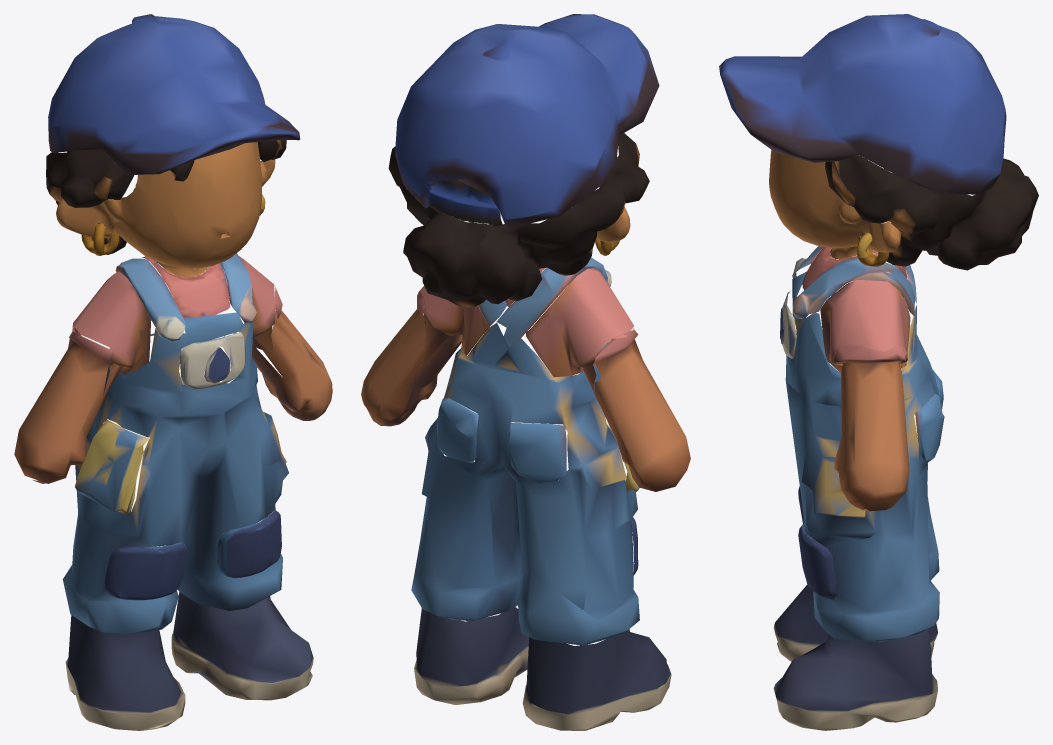
3 renders of one model, left to right at view 1: azimuth 30°, elevation 25°; view 2: azimuth 150°, elevation 25°; view 3: azimuth 270°, elevation 25°, orthographic. The views are drawn at different scales.
Parts seen in each view (by area): view 1: bottom, acc_head_0, head, top, sleeve_r, shoe_l, shoe_r, sleeve_l, hair, acc_body_3, acc_body_4, acc_head_2 (+1 smaller); view 2: bottom, acc_head_0, top, hair, shoe_r, sleeve_r, shoe_l, sleeve_l, acc_head_1, head; view 3: acc_head_0, bottom, hair, shoe_l, top, sleeve_l, head, shoe_r, acc_body_4, acc_head_2, acc_head_earl.
Part boxes in pixels (left/top/right/bottom): bottom: left=62, top=312, right=288, bottom=634; acc_head_0: left=48, top=14, right=300, bottom=175; head: left=56, top=142, right=275, bottom=277; top: left=33, top=253, right=275, bottom=483; sleeve_r: left=14, top=328, right=149, bottom=514; shoe_l: left=171, top=592, right=313, bottom=700; shoe_r: left=65, top=615, right=185, bottom=730; sleeve_l: left=256, top=287, right=332, bottom=420; hair: left=46, top=140, right=286, bottom=254; acc_body_3: left=105, top=541, right=186, bottom=600; acc_body_4: left=217, top=510, right=281, bottom=578; acc_head_2: left=142, top=256, right=230, bottom=318; bottom: left=411, top=323, right=639, bottom=645; acc_head_0: left=395, top=14, right=659, bottom=228; top: left=419, top=257, right=633, bottom=482; hair: left=388, top=133, right=649, bottom=307; shoe_r: left=522, top=629, right=671, bottom=730; sleeve_r: left=594, top=328, right=690, bottom=492; shoe_l: left=414, top=607, right=529, bottom=704; sleeve_l: left=361, top=291, right=443, bottom=426; acc_head_1: left=429, top=179, right=503, bottom=226; head: left=596, top=206, right=630, bottom=242; acc_head_0: left=719, top=14, right=1006, bottom=194; bottom: left=785, top=271, right=939, bottom=641; hair: left=825, top=154, right=1038, bottom=270; shoe_l: left=773, top=629, right=937, bottom=730; top: left=780, top=246, right=944, bottom=511; sleeve_l: left=832, top=345, right=909, bottom=511; head: left=769, top=150, right=901, bottom=259; shoe_r: left=773, top=585, right=937, bottom=661; acc_body_4: left=798, top=523, right=837, bottom=599; acc_head_2: left=802, top=247, right=907, bottom=290; acc_head_earl: left=856, top=232, right=889, bottom=266.
Size of the model in its own units: 0.5091 by 1.03 by 0.451.
